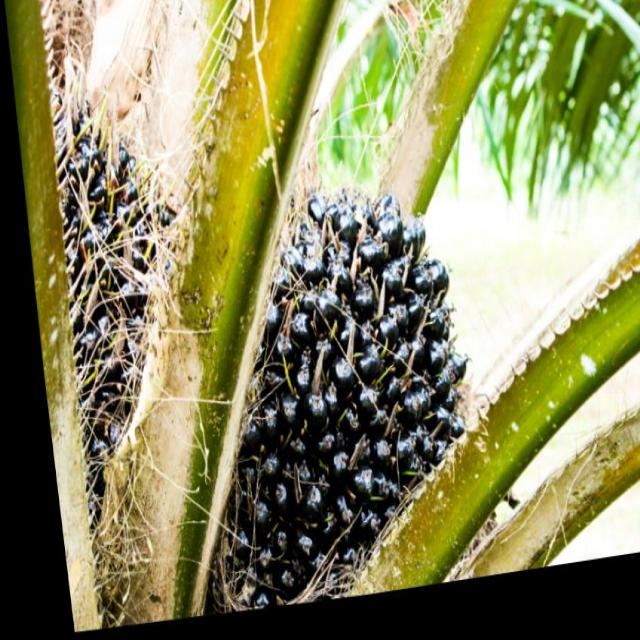Unripe: (155, 175, 483, 624)
